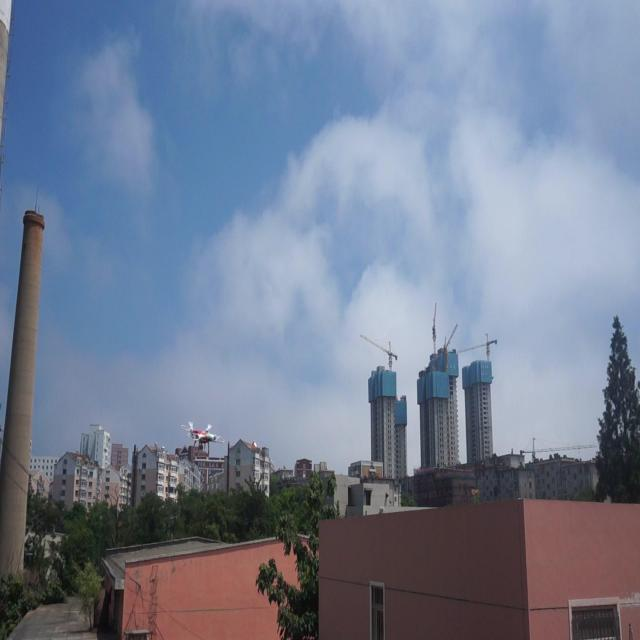UAV: (181, 422, 225, 458)
